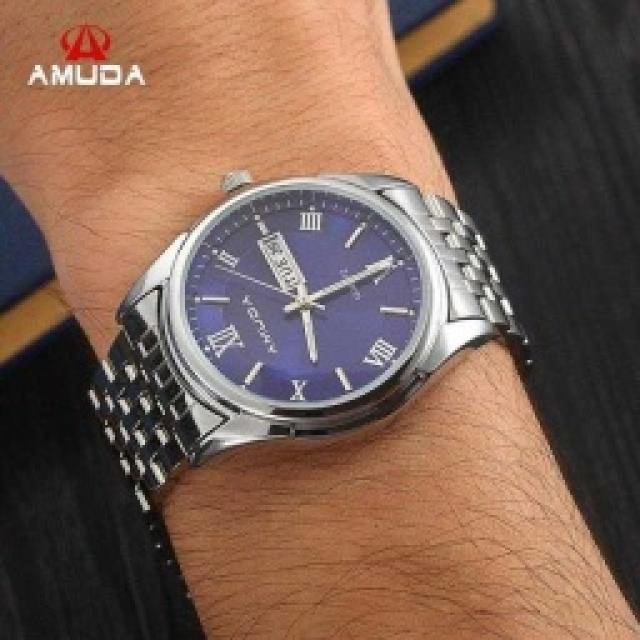saat: (72, 162, 550, 515)
